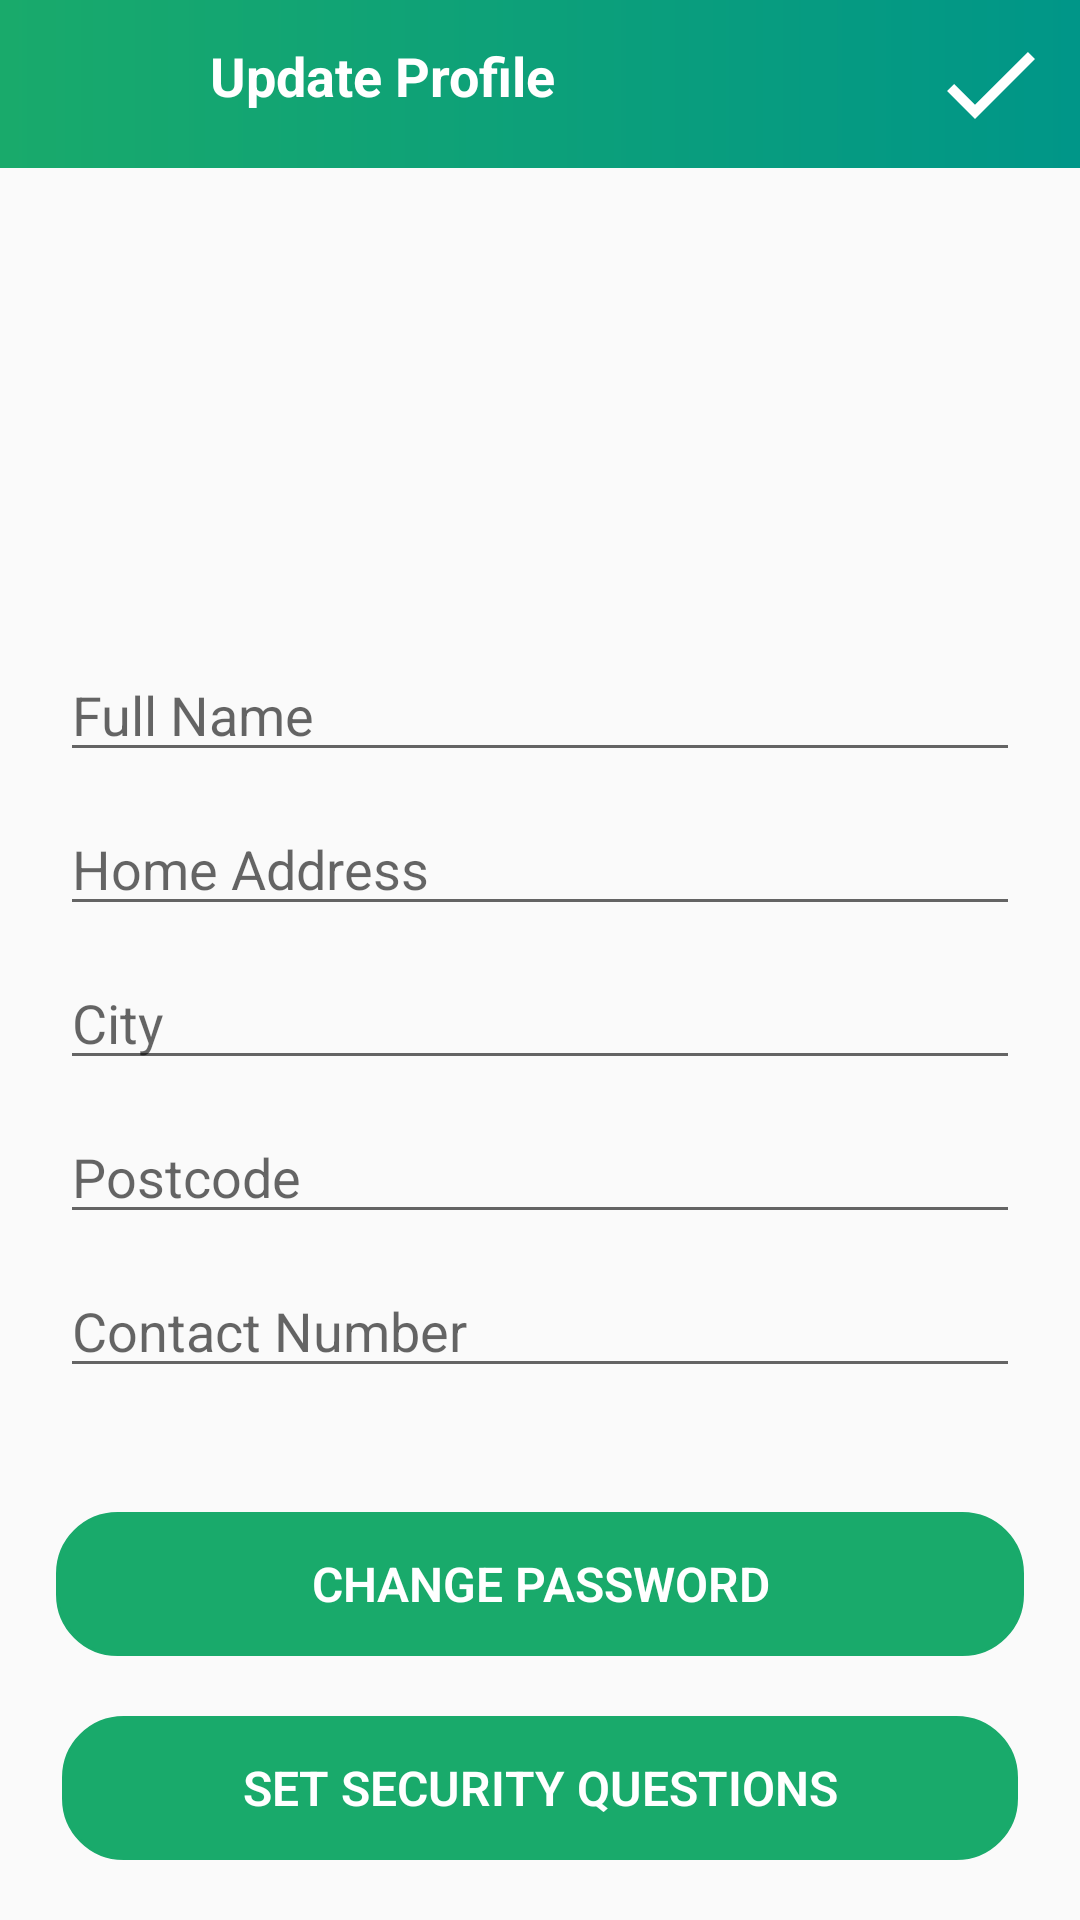

Point at icon controls on the screen. Image size 1080 x 1920, points as point (x, y).
tick: point (991, 85)
